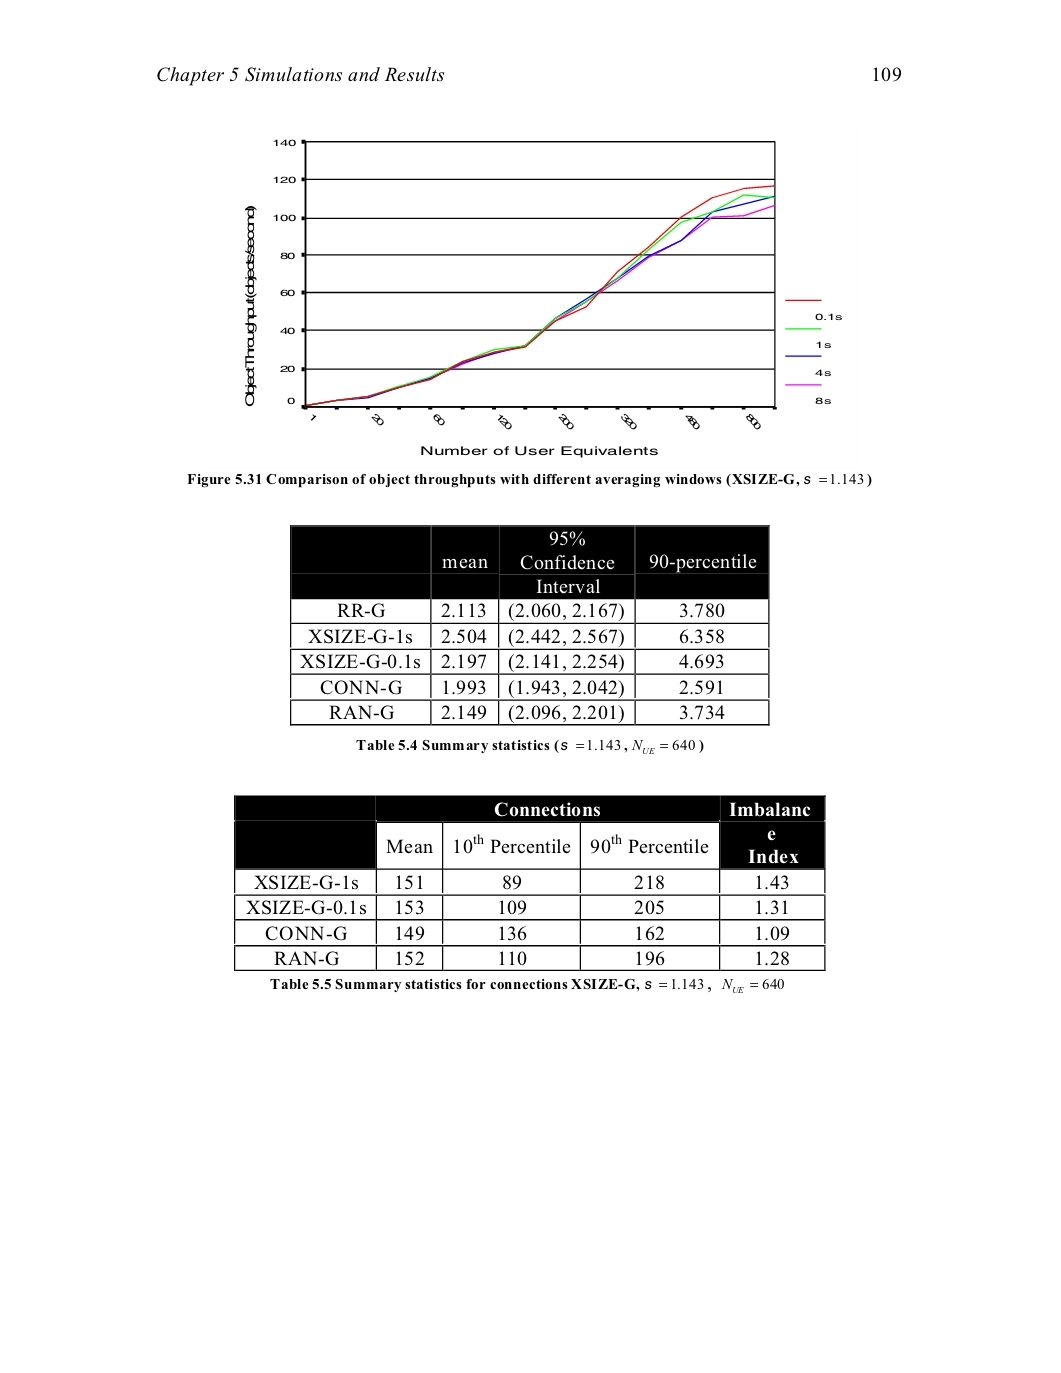Table: (234, 793, 825, 971), (290, 524, 769, 726)
figure: (245, 139, 841, 457)
